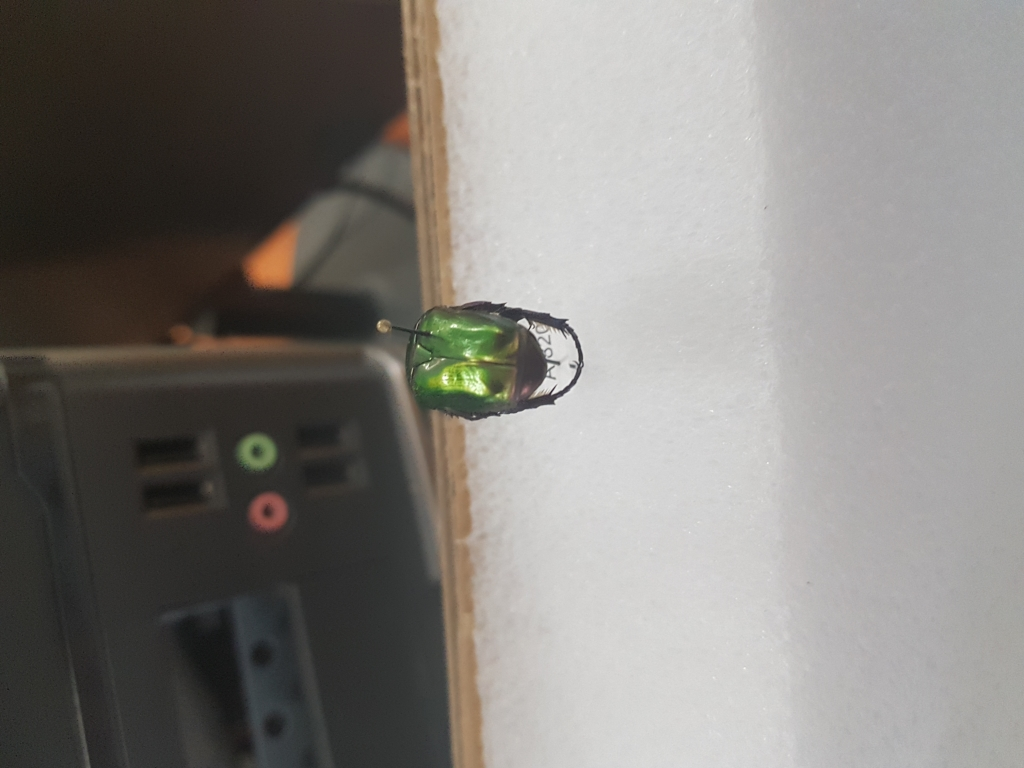Protaetia_cuprea_ignicollis: (401, 299, 585, 423)
